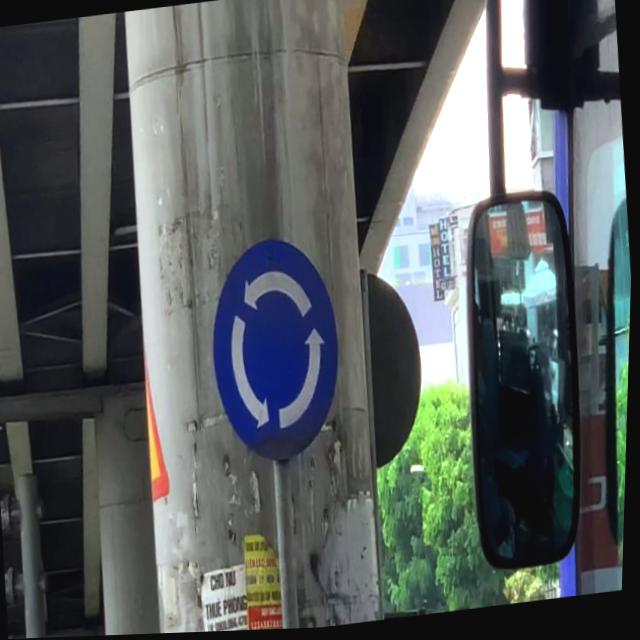Noi giao nhau chay theo vong xuyen: (201, 230, 356, 476)
